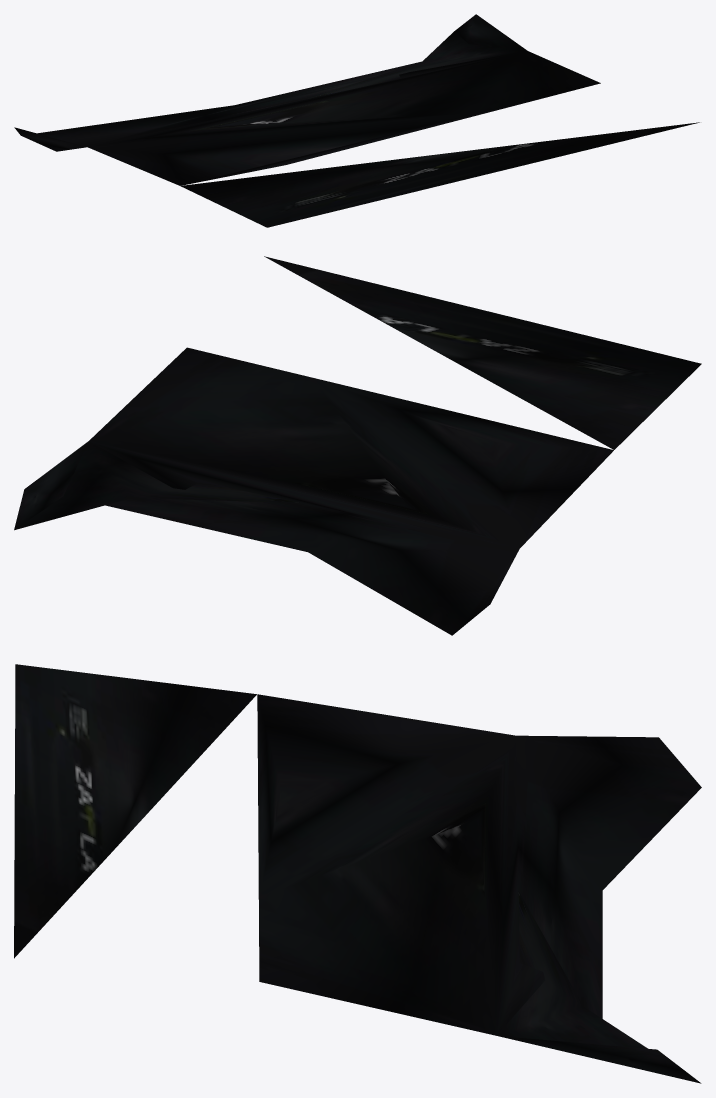
File: zatla-growlight-min.glb
3 views of the same model, one above another, from view 1: azimuth 30°, elevation 25°; view 2: azimuth 150°, elevation 25°; view 3: azimuth 270°, elevation 25° (orthographic). The views are drawn at different scales.
Visible parts, largest first — view 1: model; view 2: model; view 3: model.
Boxes of the visible parts, <box> form: model: <box>14,14,699,227</box>; model: <box>14,256,701,635</box>; model: <box>14,664,701,1083</box>.
Bounding box in the file's own units: 0.1356 × 0.0253 × 0.1258.
1 material, 1 textured.
